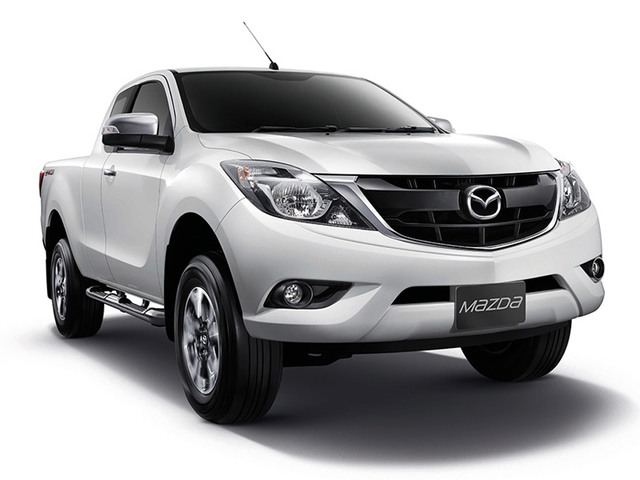pickup: (32, 63, 610, 426)
